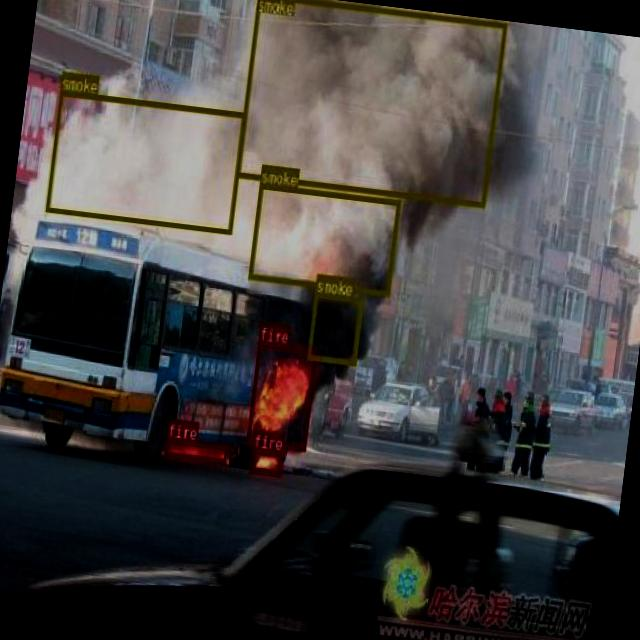fire: (244, 340, 316, 450), (164, 437, 228, 463), (248, 447, 282, 474)
smoke: (234, 0, 506, 206), (44, 90, 246, 233), (246, 182, 399, 294), (306, 291, 362, 364)
